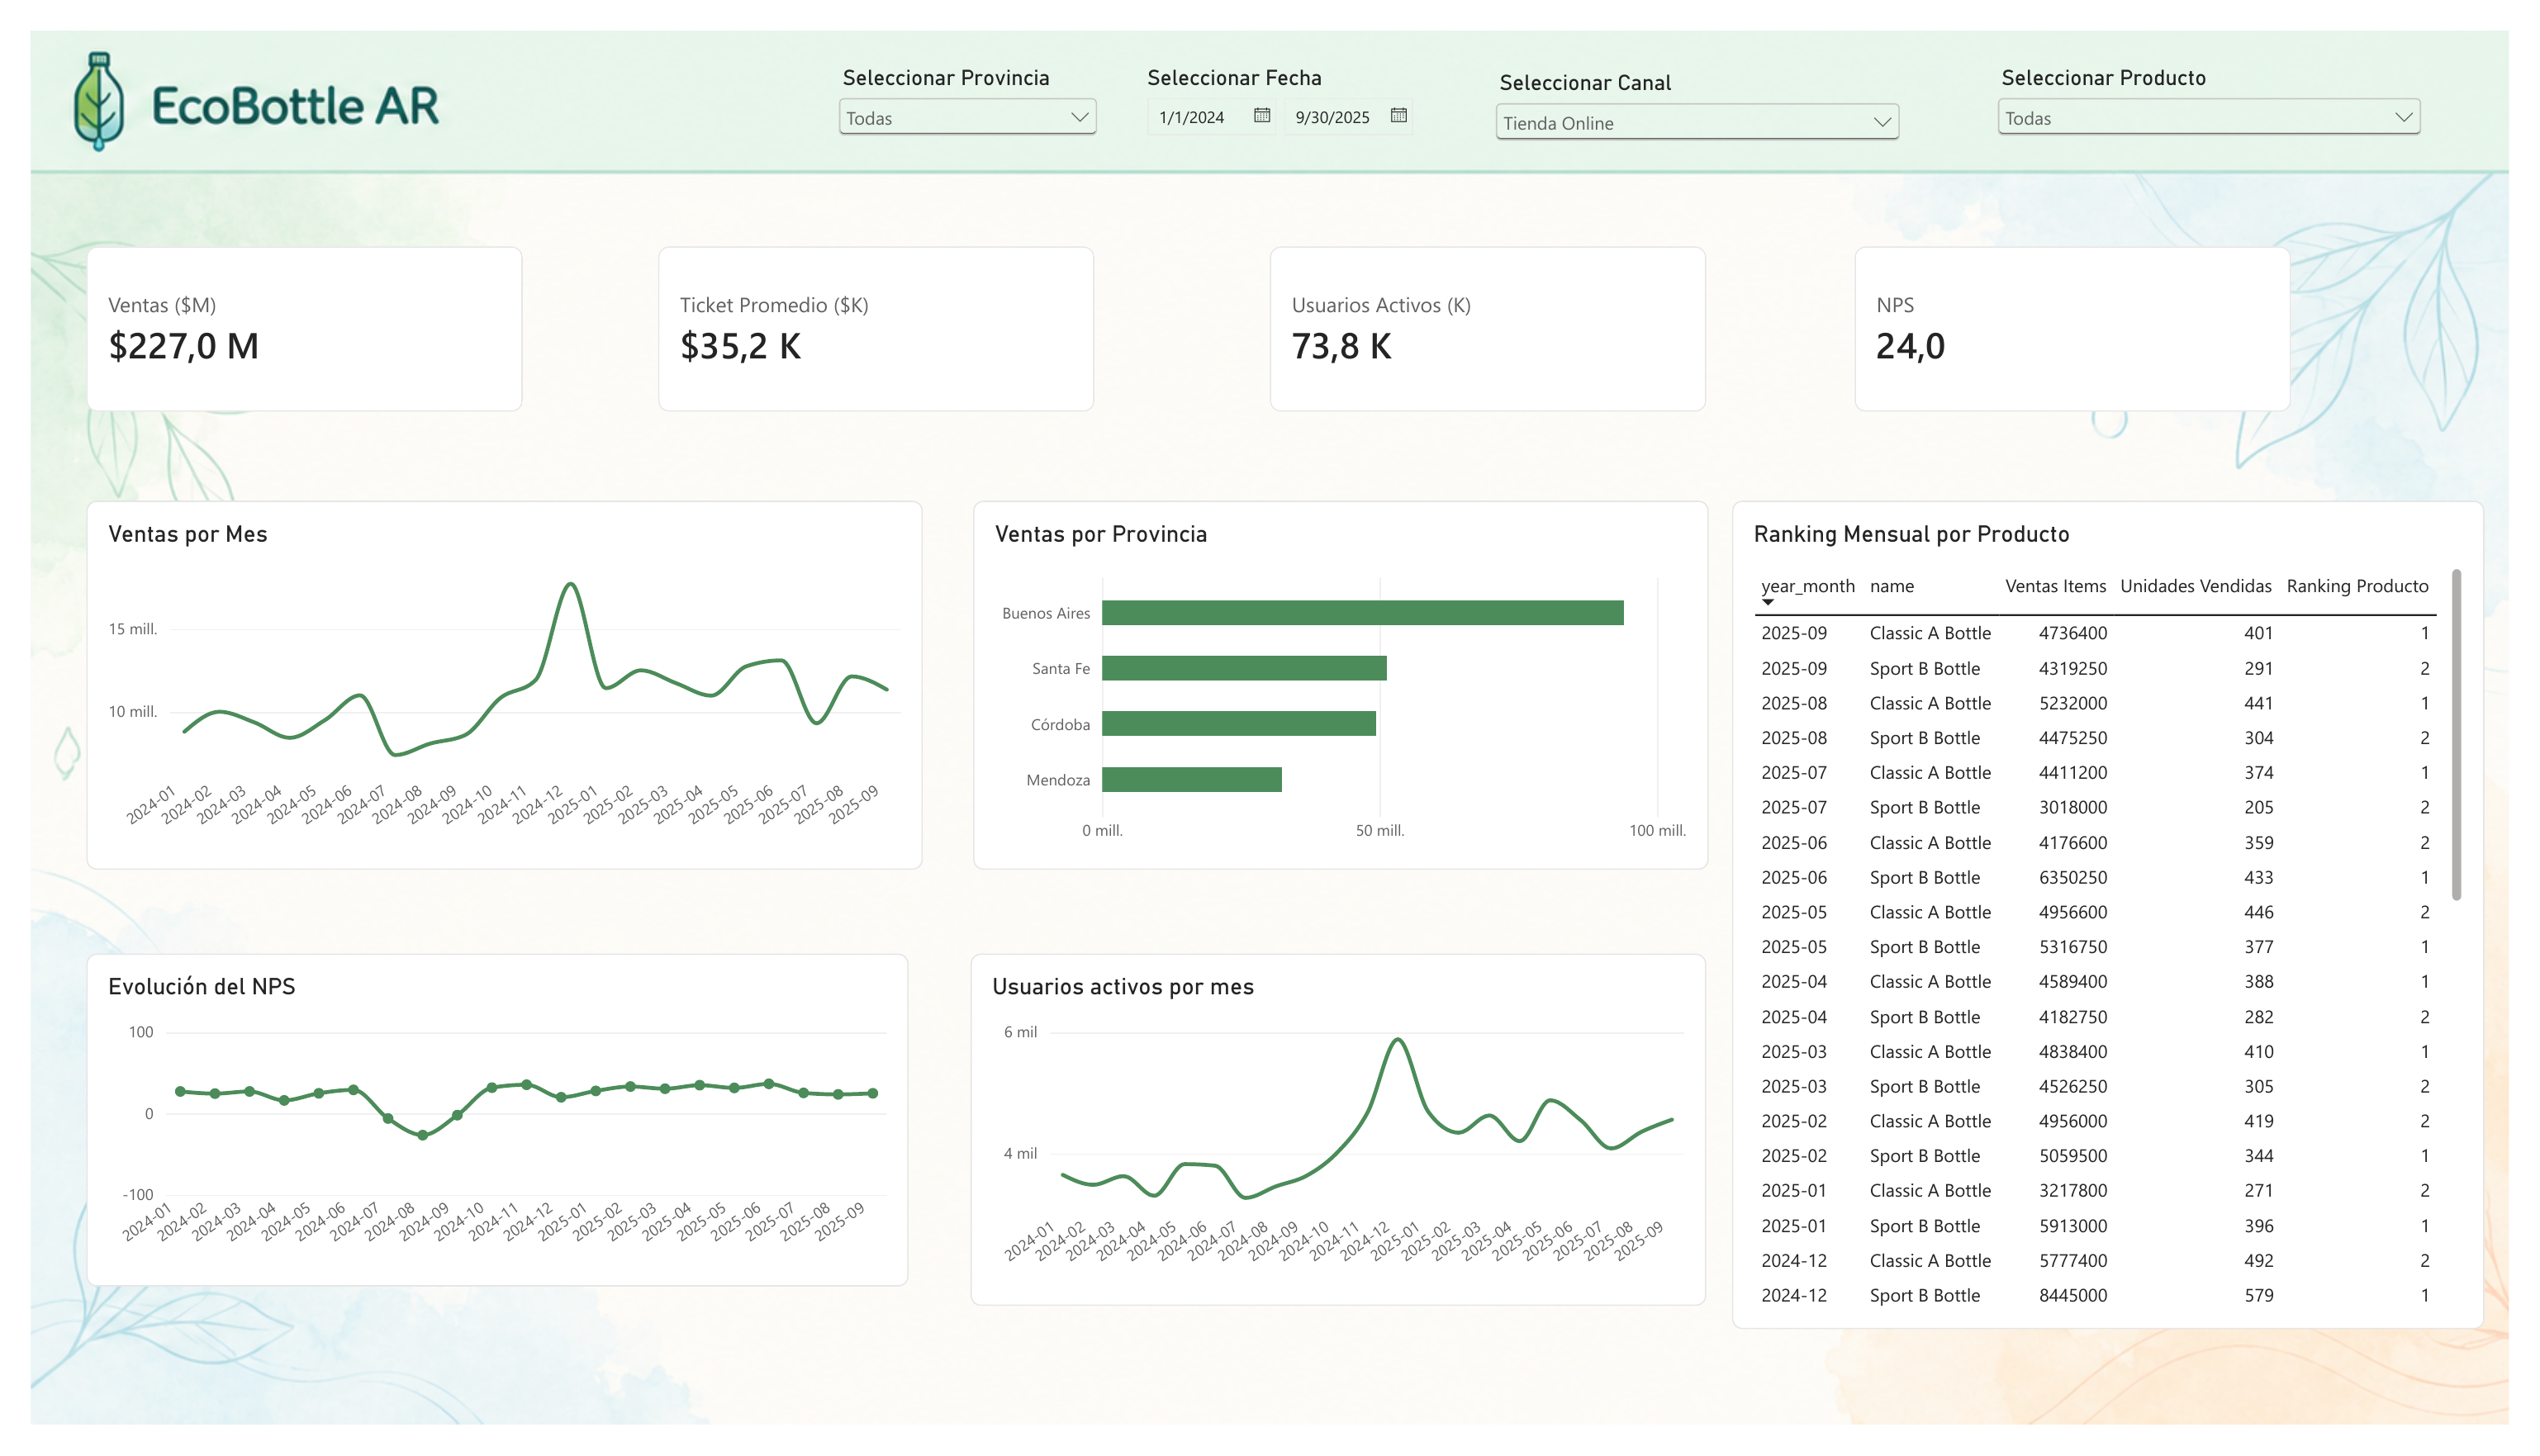

What the dashboard file says about the page in this screenshot:
{"tool":"powerbi","page":{"name":"Página 1","canvas":[1920,1080],"ordinal":0},"visuals":[{"type":"cardVisual","title":"VENTAS","fields":{"Data":["fact_sales_order.Ventas ($M)"]},"box":[42.7,167.1,337.9,128.1],"z":1},{"type":"lineChart","title":"Ventas por Mes","fields":{"Category":["dim_date.year_month"],"Y":["fact_sales_order.Ventas"]},"box":[42.7,363.9,648,286],"z":2},{"type":"barChart","title":"Ventas por Provincia","fields":{"Category":["dim_province.name"],"Y":["fact_sales_order.Ventas"]},"box":[729.7,363.9,570.1,286],"z":3},{"type":"lineChart","title":"Evolución del NPS","fields":{"Category":["dim_date.year_month"],"Y":["fact_nps.NPS"]},"box":[42.7,714.9,636.9,258.1],"z":4},{"type":"lineChart","title":"Usuarios activos por mes","fields":{"Category":["dim_date.year_month"],"Y":["fact_web_session.Usuarios Activos"]},"box":[727.9,714.9,570.1,273],"z":5},{"type":"cardVisual","fields":{"Data":["fact_sales_order.Ticket Promedio ($K)"]},"box":[486.5,167.1,337.9,128.1],"z":6},{"type":"cardVisual","fields":{"Data":["fact_web_session.Usuarios Activos (K)"]},"box":[960,167.1,337.9,128.1],"z":7},{"type":"cardVisual","fields":{"Data":["fact_nps.NPS (texto)"]},"box":[1413.1,167.1,337.9,128.1],"z":8},{"type":"tableEx","title":"Ranking Mensual por Producto","fields":{"Values":["dim_date.year_month","dim_product.name","fact_sales_item.Ventas Items","fact_sales_item.Unidades Vendidas","fact_sales_item.Ranking Producto"]},"box":[1318.4,363.9,583.1,642.5],"z":10},{"type":"slicer","fields":{"Values":["dim_province.name"]},"box":[621.3,25.5,209.8,65],"z":11},{"type":"slicer","fields":{"Values":["dim_date.full_date"]},"box":[857.4,25.5,273,154],"z":12},{"type":"slicer","fields":{"Values":["dim_channel.name"]},"box":[1129.8,29.8,323.1,76.1],"z":13},{"type":"slicer","fields":{"Values":["dim_product.name"]},"box":[1519.1,25.5,337.9,78],"z":14}]}

Visuals, with their boxes on the page's 1920x1080 design canvas (x1, y1, x2, y2). These are canvas units, not pixel positions in the 2540x1456 screenshot, which may show the page scaled, cropped or inside an application window:
"VENTAS" cardVisual: bbox=[43, 167, 381, 295]
"Ventas por Mes" lineChart: bbox=[43, 364, 691, 650]
"Ventas por Provincia" barChart: bbox=[730, 364, 1300, 650]
"Evolución del NPS" lineChart: bbox=[43, 715, 680, 973]
"Usuarios activos por mes" lineChart: bbox=[728, 715, 1298, 988]
cardVisual - fact_sales_order.Ticket Promedio ($K): bbox=[486, 167, 824, 295]
cardVisual - fact_web_session.Usuarios Activos (K): bbox=[960, 167, 1298, 295]
cardVisual - fact_nps.NPS (texto): bbox=[1413, 167, 1751, 295]
"Ranking Mensual por Producto" tableEx: bbox=[1318, 364, 1902, 1006]
slicer - dim_province.name: bbox=[621, 26, 831, 90]
slicer - dim_date.full_date: bbox=[857, 26, 1130, 180]
slicer - dim_channel.name: bbox=[1130, 30, 1453, 106]
slicer - dim_product.name: bbox=[1519, 26, 1857, 104]
